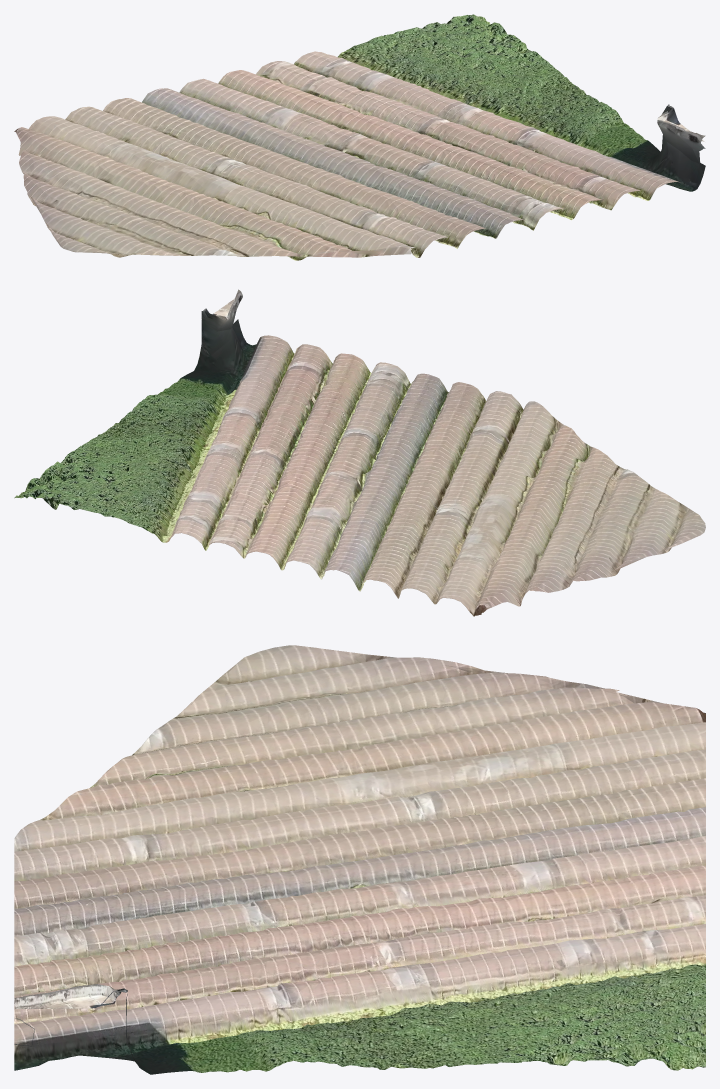
The model's file is BlockBY_L19_3.glb.
The picture shows the model from 3 angles, top to bottom: view 1: azimuth 30°, elevation 25°; view 2: azimuth 150°, elevation 25°; view 3: azimuth 270°, elevation 25°; orthographic projection. The views are drawn at different scales.
Parts seen in each view (by area): view 1: rtc; view 2: rtc; view 3: rtc.
Boxes of the visible parts, x1,y1,x2,y2 form: rtc: (14,14,705,260); rtc: (14,289,705,616); rtc: (14,645,705,1074).
Size of the model in its own units: 82.1 by 8.59 by 57.46.
5 materials, 5 textured.
